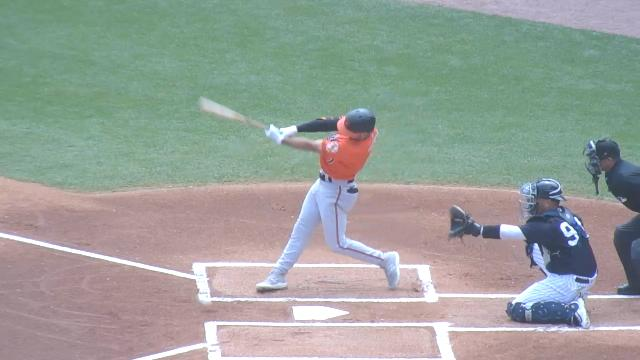baseball bat: (198, 98, 270, 128)
sports ball: (200, 295, 216, 307)
